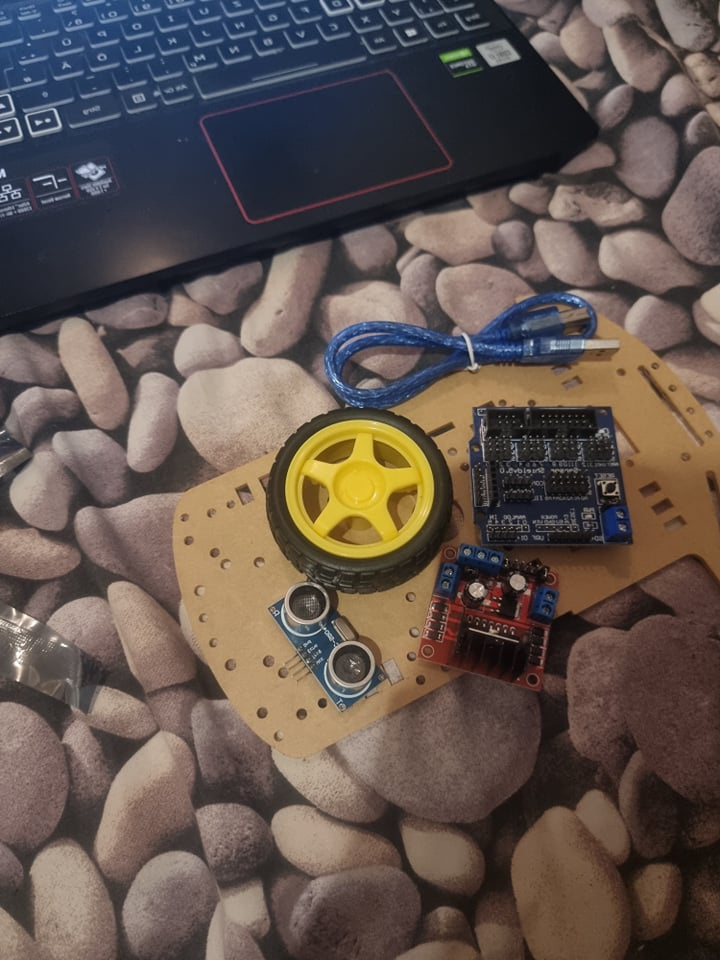5V EXPANSION: (470, 405, 633, 549)
MOTOR: (418, 546, 557, 693)
SENSOR: (274, 583, 385, 701)
